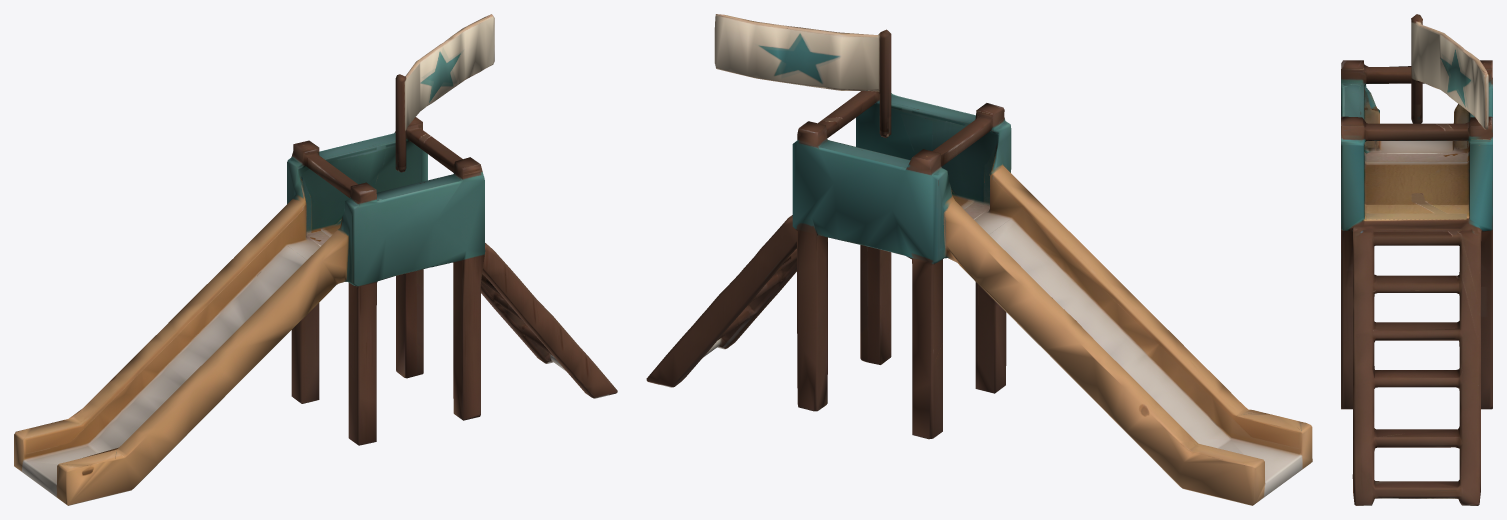
The model's file is Meshy_AI_Playground_Slide_Towe_0107222949_texture.fbx.
3 renders of one model, left to right at view 1: azimuth 30°, elevation 25°; view 2: azimuth 150°, elevation 25°; view 3: azimuth 270°, elevation 25°, orthographic. The views are drawn at different scales.
Visible parts, largest first — view 1: Mesh_0; view 2: Mesh_0; view 3: Mesh_0.
Part boxes in pixels (<box>): Mesh_0: <box>14,14,617,505</box>; Mesh_0: <box>646,14,1312,505</box>; Mesh_0: <box>1341,14,1492,505</box>.
Size of the model in its own units: 192 by 117 by 40.76.
Materials: 1 (1 with a texture image).
